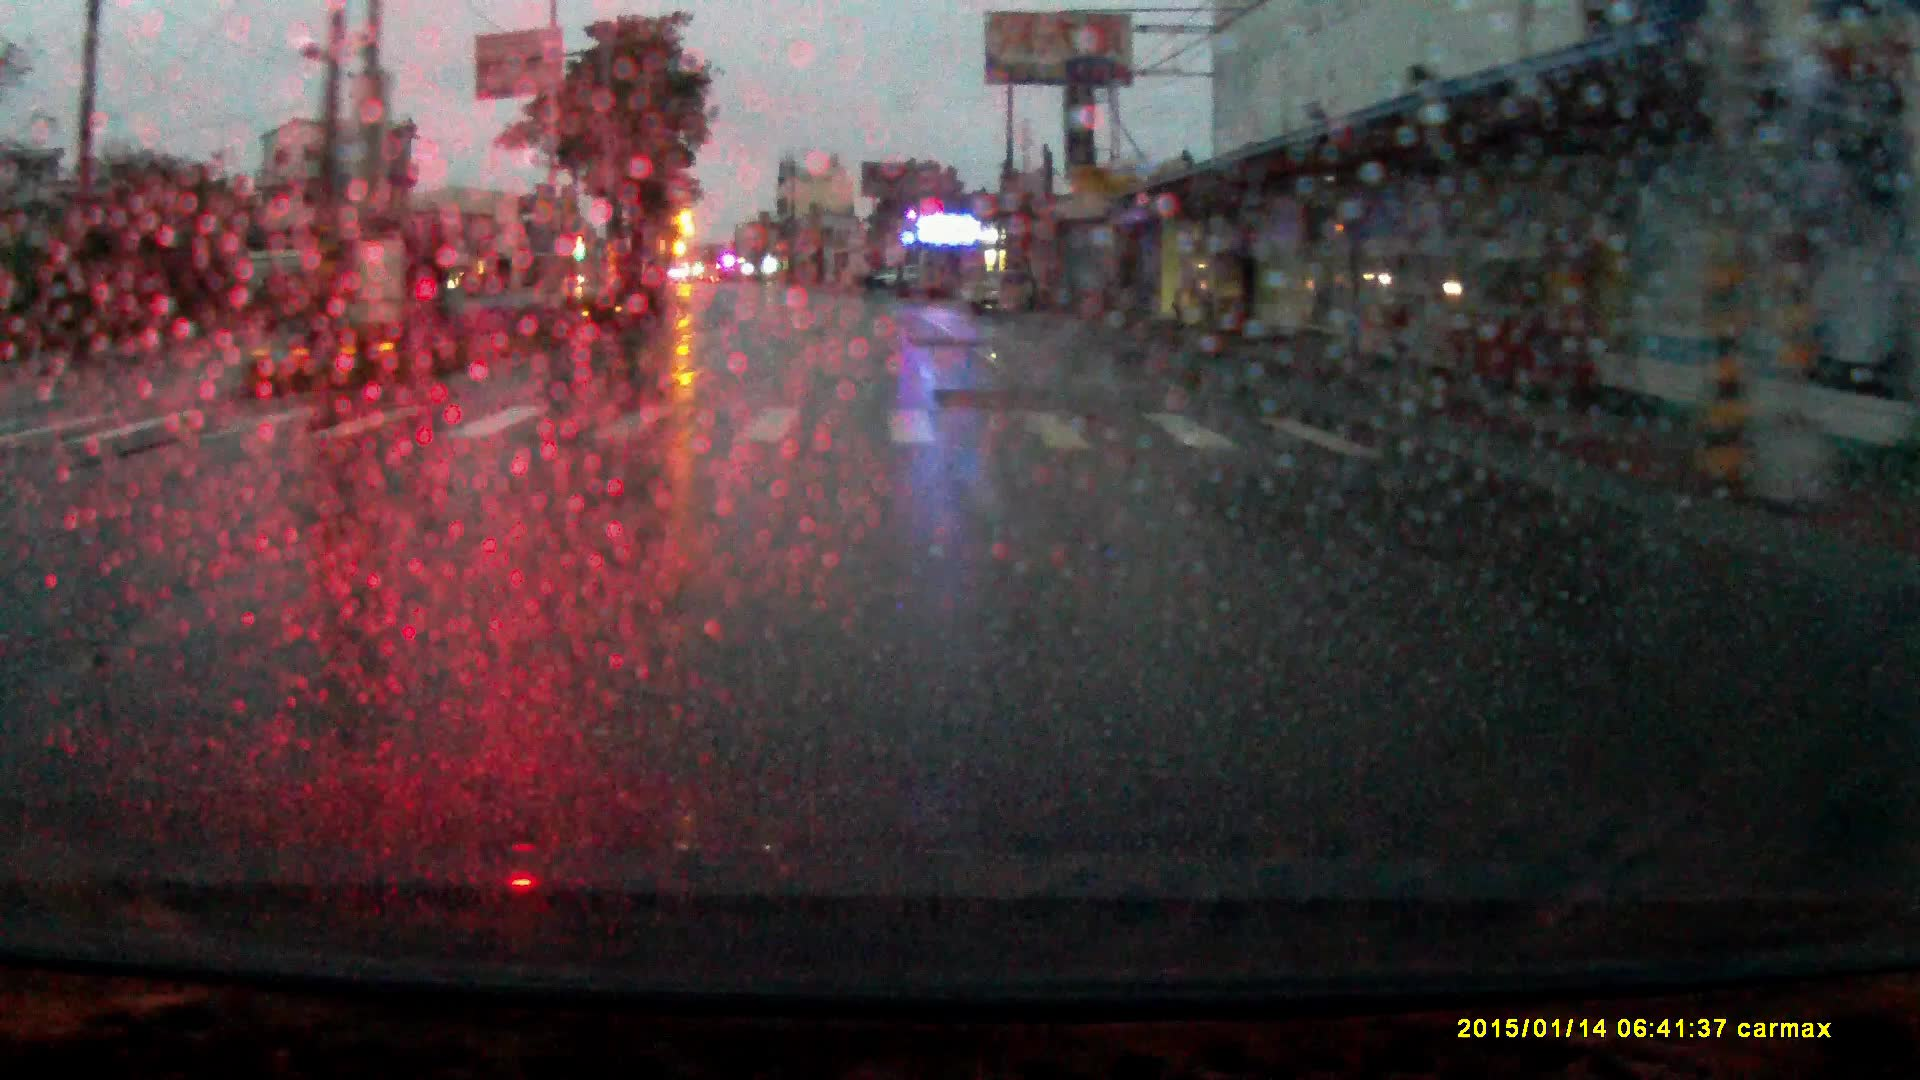vehicle: (959, 274, 1042, 323)
